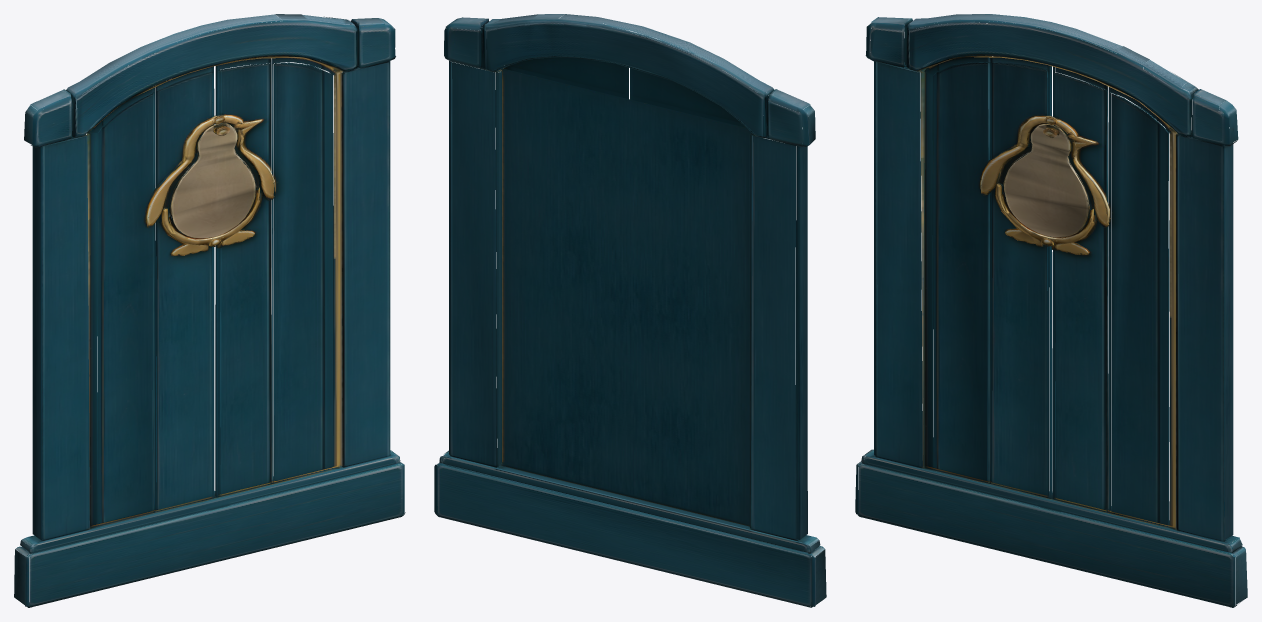
The picture shows the model from 3 angles, left to right: view 1: azimuth 30°, elevation 25°; view 2: azimuth 150°, elevation 25°; view 3: azimuth 330°, elevation 25°; orthographic projection.
Visible parts, largest first — view 1: a02_Shelf_end_panel; view 2: a02_Shelf_end_panel; view 3: a02_Shelf_end_panel.
Boxes of the visible parts, x1=… form: a02_Shelf_end_panel: x1=14, y1=14, x2=405, y2=607; a02_Shelf_end_panel: x1=434, y1=14, x2=826, y2=607; a02_Shelf_end_panel: x1=855, y1=14, x2=1247, y2=607.
Bounding box in the file's own units: 1.98 × 2.64 × 0.1231.
1 material, 1 textured.
